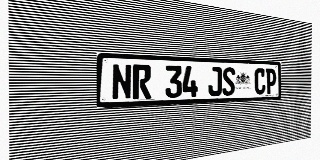3: (165, 65, 182, 98)
4: (182, 66, 198, 97)
C: (254, 68, 265, 95)
J: (208, 67, 222, 96)
N: (112, 64, 132, 100)
P: (266, 68, 276, 94)
R: (133, 64, 151, 99)
S: (222, 67, 235, 96)
